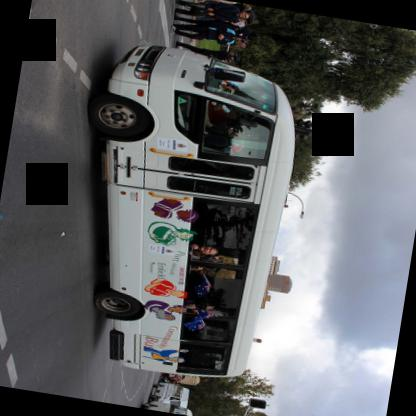handbag: (188, 2, 206, 16)
